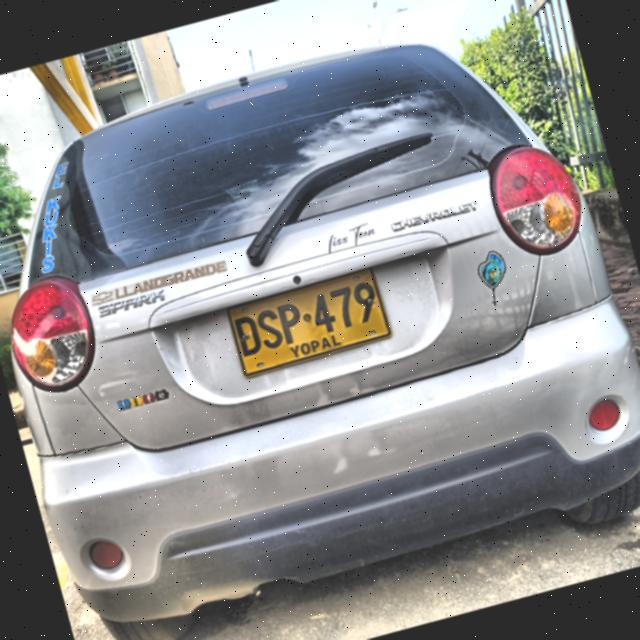4: (307, 291, 338, 335)
7: (328, 284, 361, 330)
9: (350, 279, 382, 325)
D: (232, 313, 264, 358)
P: (276, 300, 308, 346)
S: (254, 307, 285, 352)
